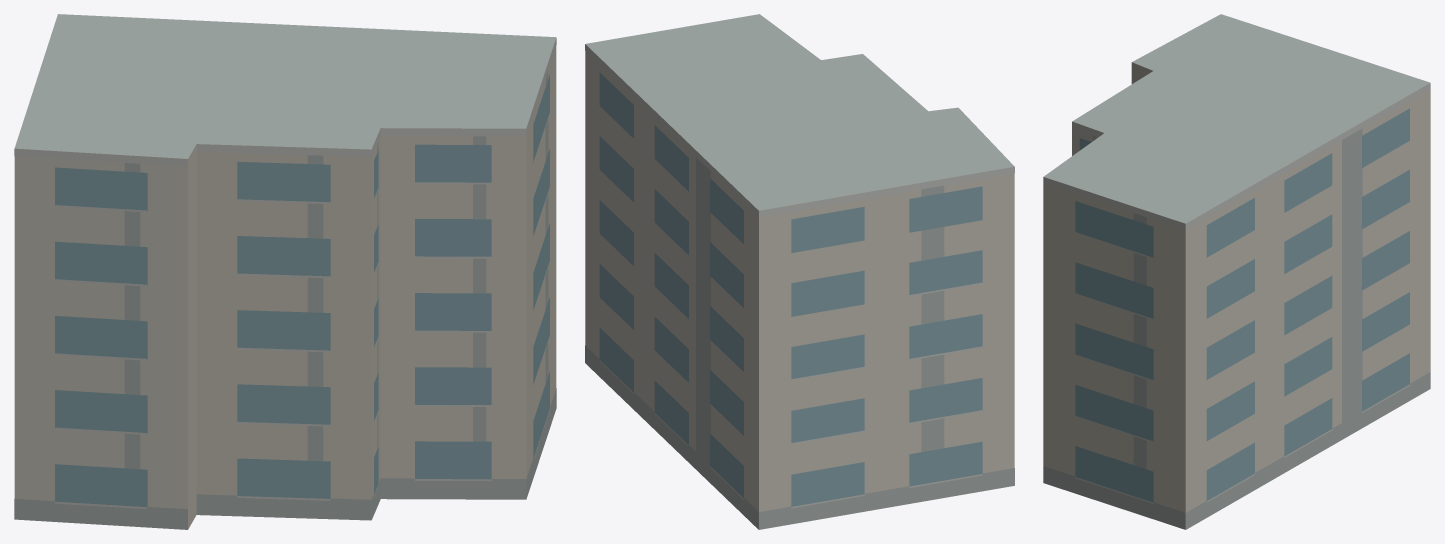
File: survey-upis-32641686.glb
3 renders of one model, left to right at view 1: azimuth 30°, elevation 25°; view 2: azimuth 150°, elevation 25°; view 3: azimuth 270°, elevation 25°, orthographic. The views are drawn at different scales.
Visible parts, largest first — view 1: survey-upis-32641686.tmp; view 2: survey-upis-32641686.tmp; view 3: survey-upis-32641686.tmp.
Boxes of the visible parts, x1,y1,x2,y2 form: survey-upis-32641686.tmp: [14, 14, 556, 529]; survey-upis-32641686.tmp: [585, 14, 1014, 529]; survey-upis-32641686.tmp: [1043, 14, 1430, 529].
Size of the model in its own units: 17.2 by 11.7 by 13.42.
